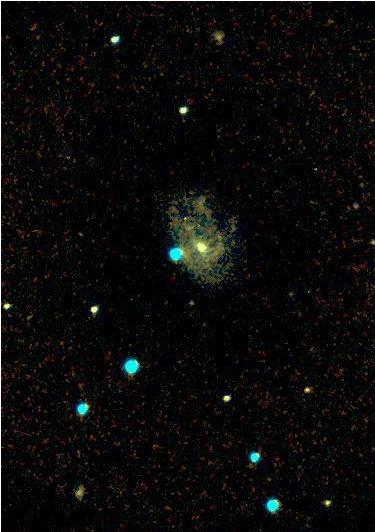star: (277, 278, 307, 308)
